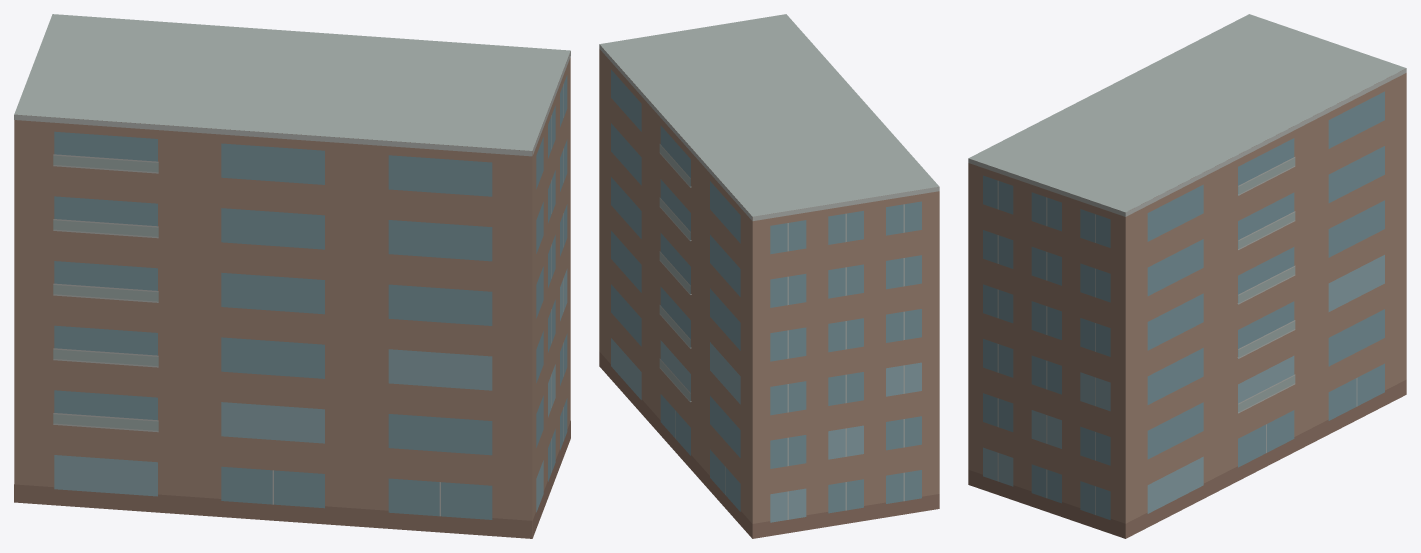
Rendered from survey-upis-32994826.glb.
3 views of the same model, side by side, from view 1: azimuth 30°, elevation 25°; view 2: azimuth 150°, elevation 25°; view 3: azimuth 270°, elevation 25° (orthographic). The views are drawn at different scales.
Parts seen in each view (by area): view 1: survey-upis-32994826.tmp; view 2: survey-upis-32994826.tmp; view 3: survey-upis-32994826.tmp.
Part boxes in pixels (x1,y1,x2,y2): survey-upis-32994826.tmp: (14,14,570,538); survey-upis-32994826.tmp: (599,14,939,538); survey-upis-32994826.tmp: (968,14,1406,538).
Size of the model in its own units: 22.82 by 17.5 by 21.3.
